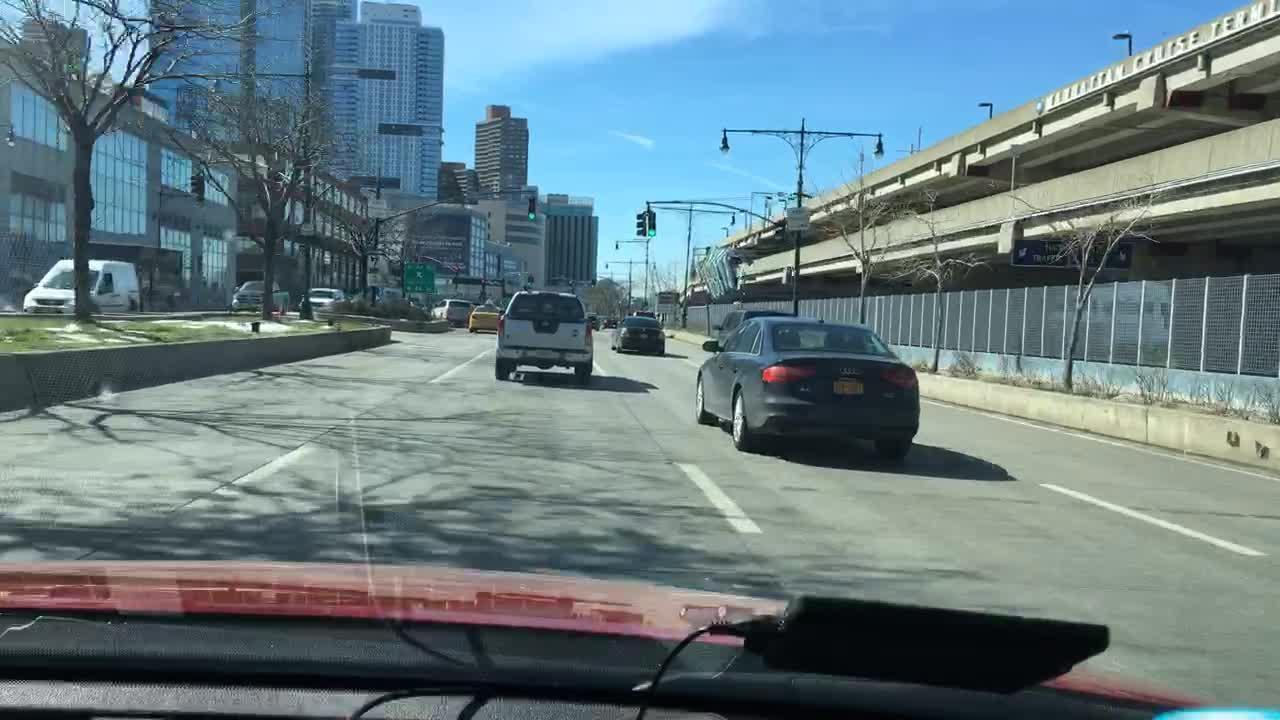Audi: (837, 362, 865, 377)
